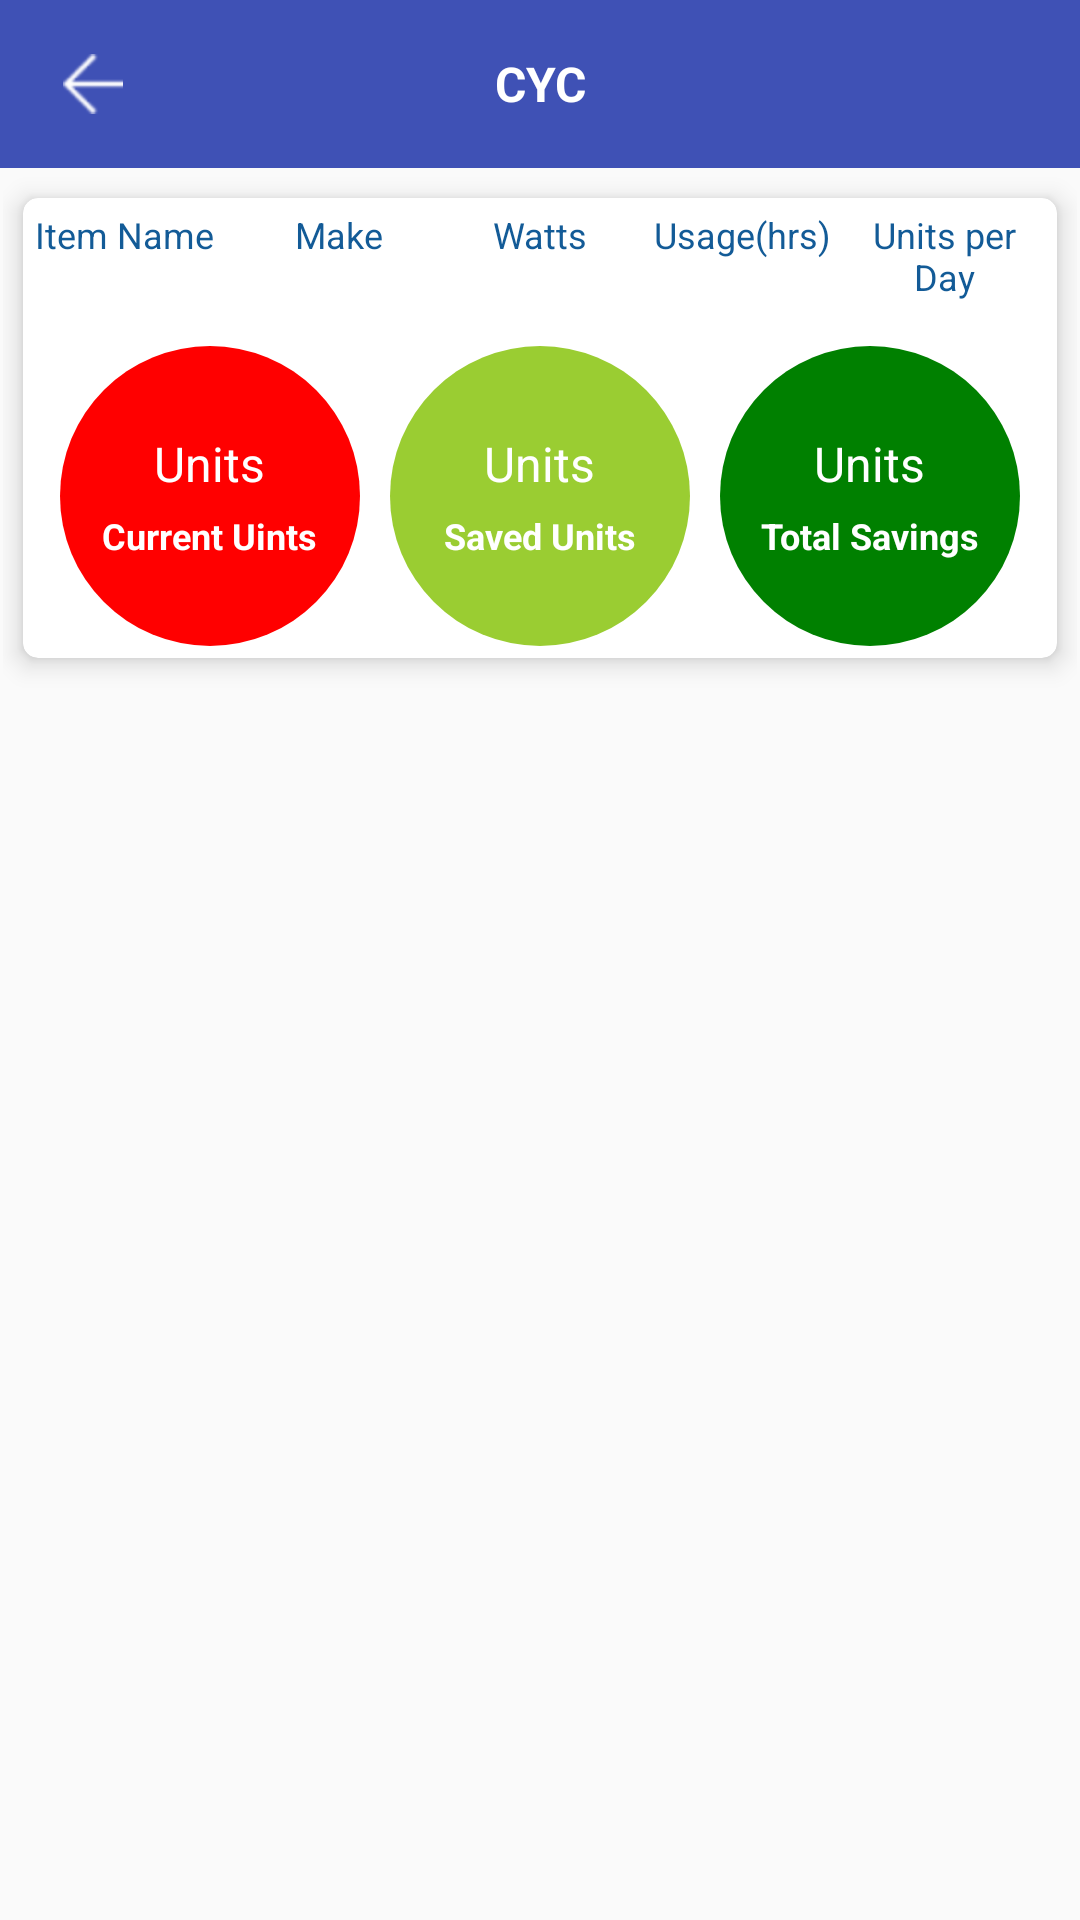

Locate icon controls on the screen. Image size 1080x1920, boxes as [x1=x1, y1=y1, x2=x2, y2=y2].
left arrow back: [x1=63, y1=54, x2=123, y2=114]
